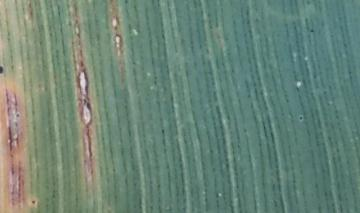tarspot: (29, 198, 38, 206), (1, 63, 6, 76), (297, 113, 304, 122), (308, 27, 316, 34), (14, 112, 21, 119), (160, 127, 165, 136), (123, 1, 129, 6)
